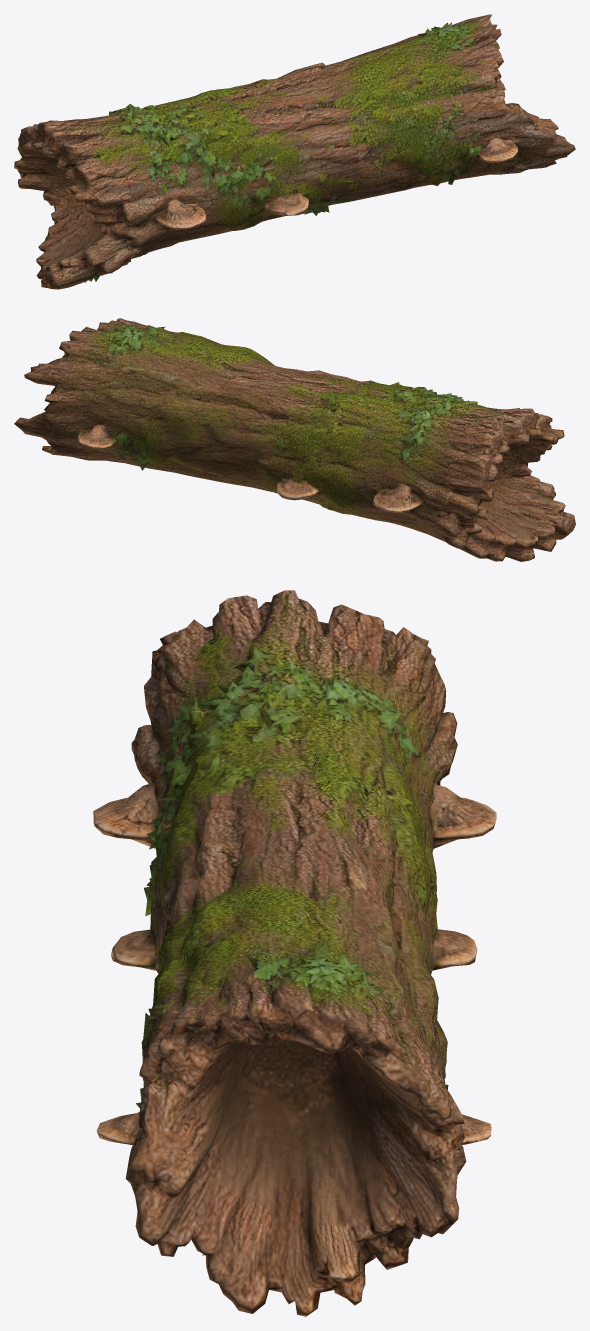
Rendered from source_2.glb.
3 renders of one model, top to bottom at view 1: azimuth 30°, elevation 25°; view 2: azimuth 150°, elevation 25°; view 3: azimuth 270°, elevation 25°, orthographic. The views are drawn at different scales.
Parts seen in each view (by area): view 1: tripo_node_f5f59ce6-d398-432c-9078-081e55c16379; view 2: tripo_node_f5f59ce6-d398-432c-9078-081e55c16379; view 3: tripo_node_f5f59ce6-d398-432c-9078-081e55c16379.
Part boxes in pixels (x1=…): tripo_node_f5f59ce6-d398-432c-9078-081e55c16379: x1=14, y1=14, x2=575, y2=289; tripo_node_f5f59ce6-d398-432c-9078-081e55c16379: x1=14, y1=318, x2=575, y2=561; tripo_node_f5f59ce6-d398-432c-9078-081e55c16379: x1=93, y1=590, x2=496, y2=1316.
Bounding box in the file's own units: 0.9809 × 0.267 × 0.3466.
Materials: 1 (1 with a texture image).
